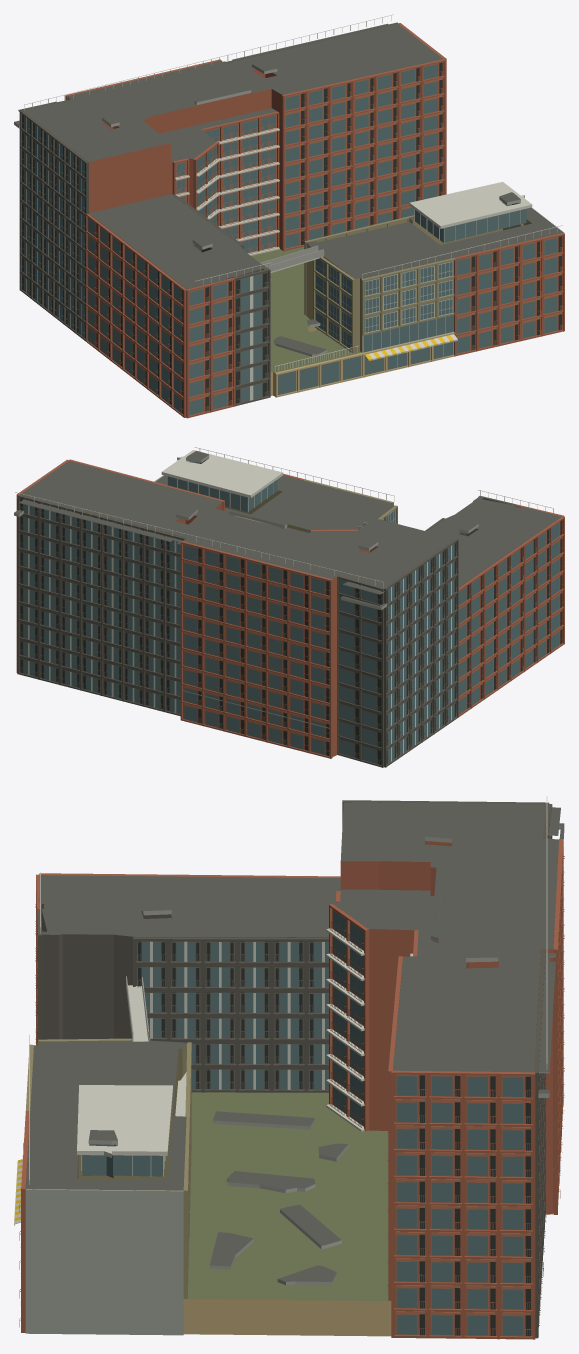
The model's file is haparandaweg-8-338.glb.
The picture shows the model from 3 angles, top to bottom: view 1: azimuth 30°, elevation 25°; view 2: azimuth 150°, elevation 25°; view 3: azimuth 270°, elevation 25°; orthographic projection. The views are drawn at different scales.
Visible parts, largest first — view 1: haparandaweg-8-338; view 2: haparandaweg-8-338; view 3: haparandaweg-8-338.
Boxes of the visible parts, bbox=[...] form: haparandaweg-8-338: bbox=[14, 14, 564, 418]; haparandaweg-8-338: bbox=[14, 447, 564, 767]; haparandaweg-8-338: bbox=[14, 796, 564, 1339].
Bounding box in the file's own units: 70.85 × 32.71 × 59.27.
